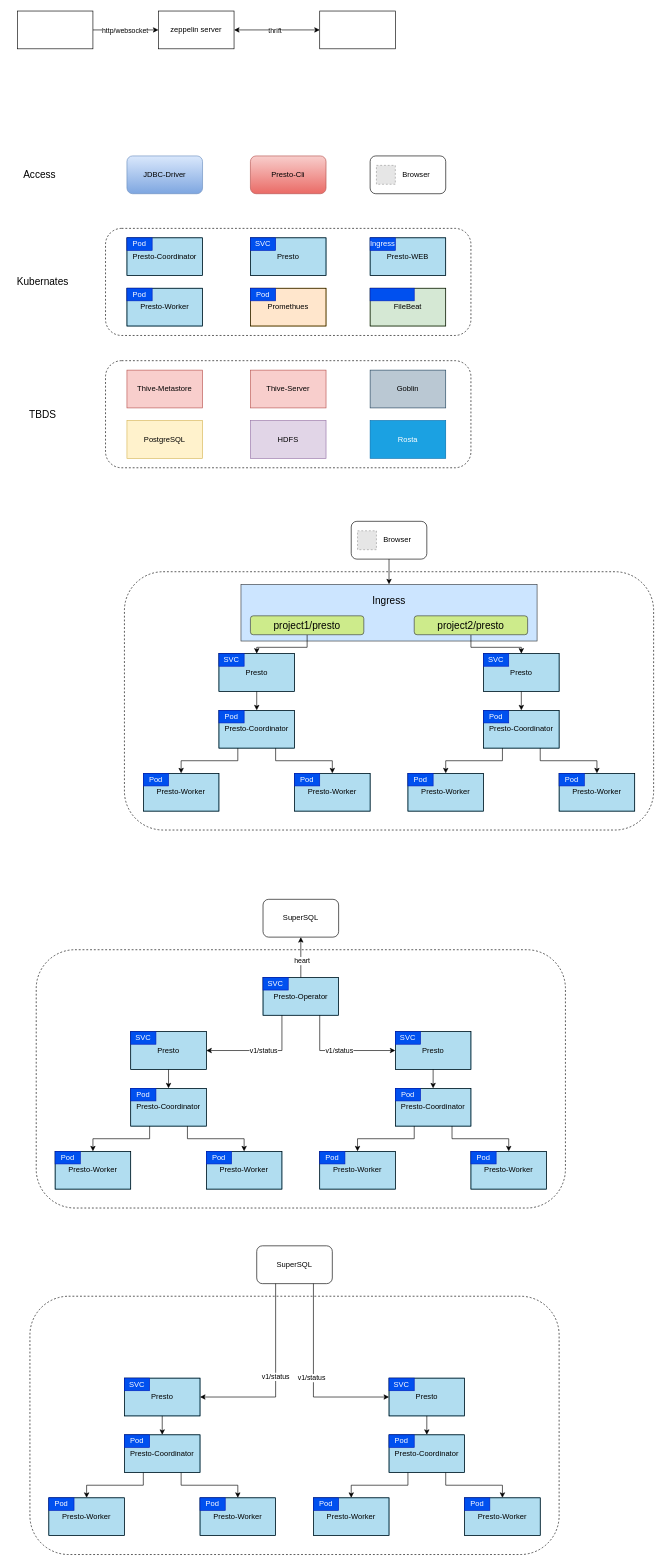
Image size: 665x1566. Some labels were removed from this diagram. Grey dashed boxes stand in for pictures. The centre of each missing label's shape, as x and y in pixels:
DaemonSet: pixel 391 294
zeppelin interpreter: pixel 357 29
zeppelin web: pixel 55 29
